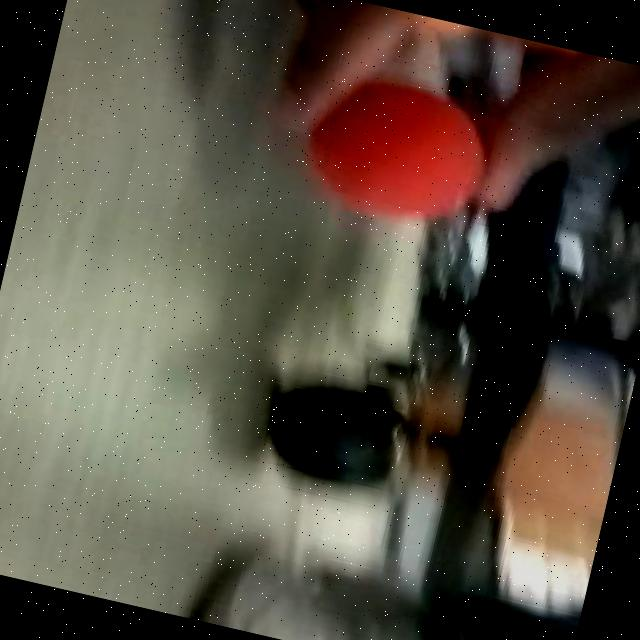ping-pong-ball: (282, 59, 500, 244)
